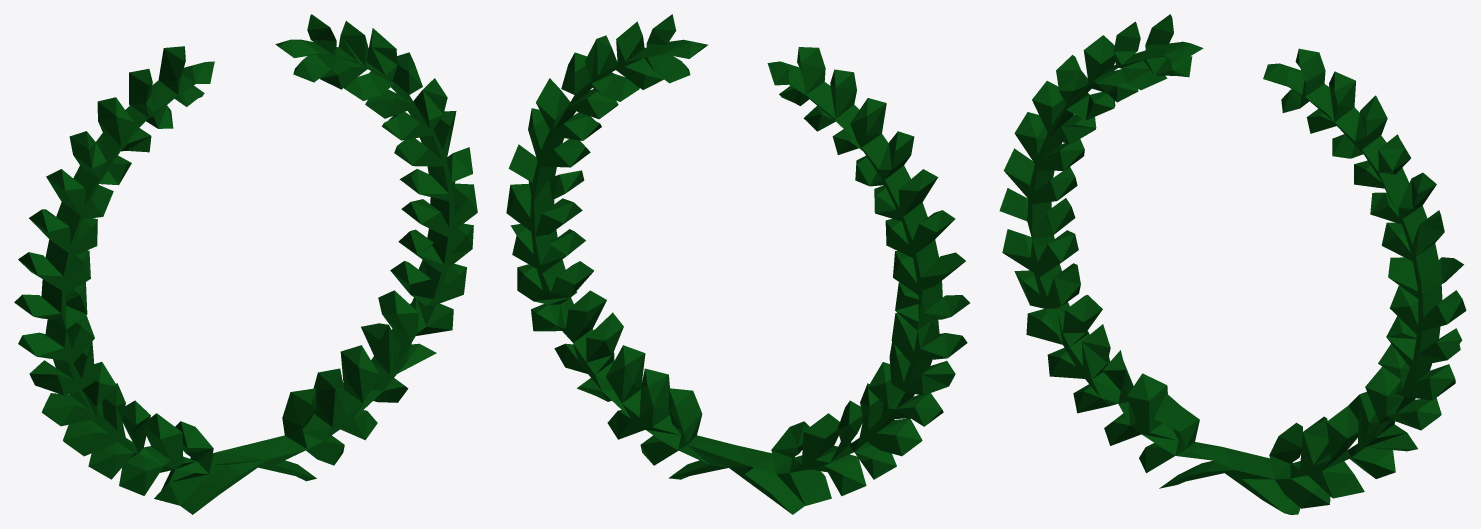
File: wreath.fbx
3 views of the same model, side by side, from view 1: azimuth 30°, elevation 25°; view 2: azimuth 150°, elevation 25°; view 3: azimuth 330°, elevation 25° (orthographic).
Parts seen in each view (by area): view 1: wreath; view 2: wreath; view 3: wreath.
Part boxes in pixels (x1,y1,x2,y2): wreath: (14,14,477,514); wreath: (506,14,969,514); wreath: (999,14,1466,514).
Size of the model in its own units: 277 by 272 by 21.59.
